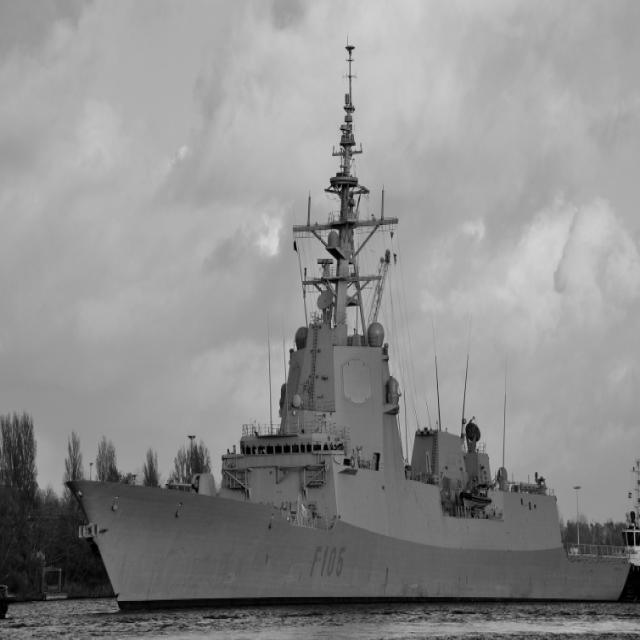Fragata: (67, 22, 640, 625)
